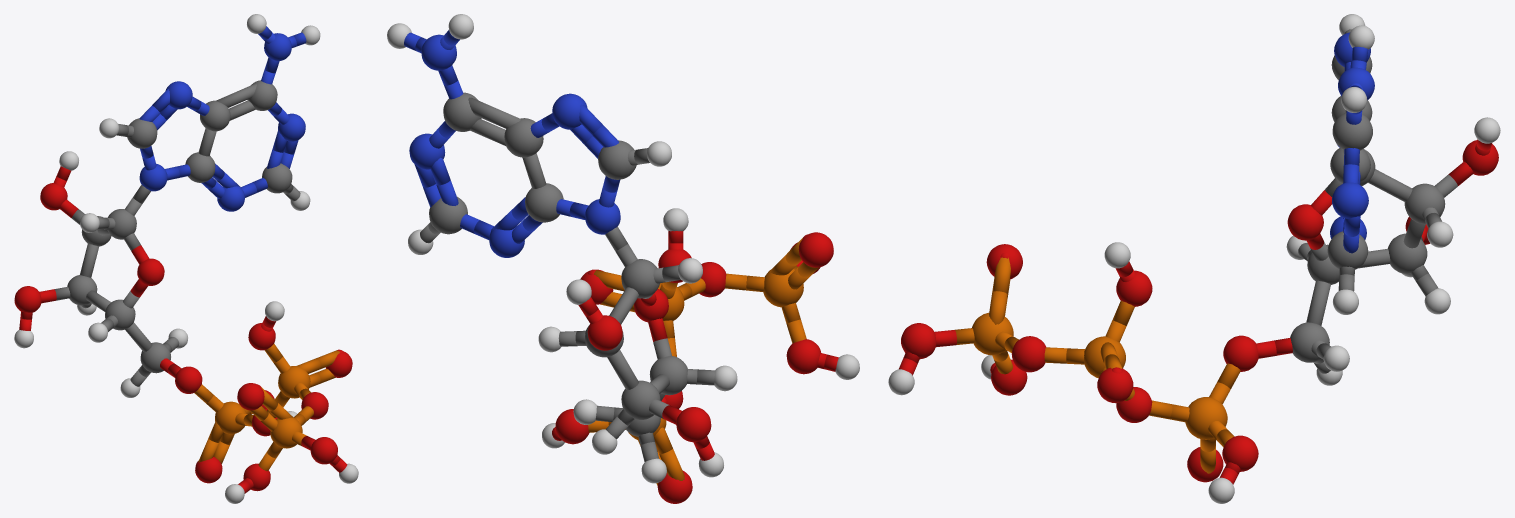
File: atp.obj
3 renders of one model, left to right at view 1: azimuth 30°, elevation 25°; view 2: azimuth 150°, elevation 25°; view 3: azimuth 270°, elevation 25°, orthographic. The views are drawn at different scales.
Parts seen in each view (by area): view 1: ShapeSphere.001, ShapeSphere.026_ShapeSphere.004, ShapeSphere_ShapeSphere.001, ShapeSphere.002_ShapeSphere.001, ShapeSphere.028_ShapeSphere.004, ShapeSphere.027_ShapeSphere.004, ShapeSphere.030_ShapeSphere.004, ShapeSphere.023_ShapeSphere.004, ShapeSphere.022_ShapeSphere.004, ShapeSphere.029_ShapeSphere.004, ShapeSphere.025_ShapeSphere.004, ShapeSphere.024_ShapeSphere.004 (+18 smaller); view 2: ShapeSphere.026_ShapeSphere.004, ShapeSphere.028_ShapeSphere.004, ShapeSphere.027_ShapeSphere.004, ShapeSphere.023_ShapeSphere.004, ShapeSphere.022_ShapeSphere.004, ShapeSphere.030_ShapeSphere.004, ShapeSphere.005_ShapeSphere.002, ShapeSphere.002_ShapeSphere.001, ShapeSphere.015_ShapeSphere.002, ShapeSphere.024_ShapeSphere.004, ShapeSphere.029_ShapeSphere.004, ShapeSphere.004_ShapeSphere.002 (+19 smaller); view 3: ShapeSphere_ShapeSphere.001, ShapeSphere.029_ShapeSphere.004, ShapeSphere.002_ShapeSphere.001, ShapeSphere.019_ShapeSphere.003, ShapeSphere.022_ShapeSphere.004, ShapeSphere.021_ShapeSphere.004, ShapeSphere.025_ShapeSphere.004, ShapeSphere.003_ShapeSphere.002, ShapeSphere.010_ShapeSphere.002, ShapeSphere.012_ShapeSphere.002, ShapeSphere.006_ShapeSphere.002, ShapeSphere.013_ShapeSphere.002 (+14 smaller).
Part boxes in pixels (left/top/right/bottom): ShapeSphere.001: left=278, top=366, right=310, bottom=398; ShapeSphere.026_ShapeSphere.004: left=185, top=152, right=215, bottom=182; ShapeSphere_ShapeSphere.001: left=215, top=401, right=246, bottom=434; ShapeSphere.002_ShapeSphere.001: left=270, top=417, right=302, bottom=448; ShapeSphere.028_ShapeSphere.004: left=200, top=100, right=230, bottom=131; ShapeSphere.027_ShapeSphere.004: left=127, top=118, right=157, bottom=148; ShapeSphere.030_ShapeSphere.004: left=262, top=163, right=292, bottom=193; ShapeSphere.023_ShapeSphere.004: left=107, top=209, right=136, bottom=239; ShapeSphere.022_ShapeSphere.004: left=67, top=275, right=97, bottom=305; ShapeSphere.029_ShapeSphere.004: left=247, top=80, right=277, bottom=110; ShapeSphere.025_ShapeSphere.004: left=140, top=342, right=170, bottom=373; ShapeSphere.024_ShapeSphere.004: left=105, top=299, right=135, bottom=330; ShapeSphere.026_ShapeSphere.004: left=525, top=183, right=563, bottom=222; ShapeSphere.028_ShapeSphere.004: left=504, top=118, right=543, bottom=157; ShapeSphere.027_ShapeSphere.004: left=598, top=140, right=636, bottom=179; ShapeSphere.023_ShapeSphere.004: left=621, top=259, right=659, bottom=298; ShapeSphere.022_ShapeSphere.004: left=621, top=380, right=660, bottom=419; ShapeSphere.030_ShapeSphere.004: left=429, top=196, right=467, bottom=234; ShapeSphere.005_ShapeSphere.002: left=676, top=407, right=711, bottom=442; ShapeSphere.002_ShapeSphere.001: left=763, top=268, right=803, bottom=307; ShapeSphere.015_ShapeSphere.002: left=798, top=232, right=833, bottom=267; ShapeSphere.024_ShapeSphere.004: left=649, top=356, right=687, bottom=395; ShapeSphere.029_ShapeSphere.004: left=443, top=92, right=481, bottom=131; ShapeSphere.004_ShapeSphere.002: left=587, top=315, right=622, bottom=350; ShapeSphere_ShapeSphere.001: left=1185, top=397, right=1227, bottom=439; ShapeSphere.029_ShapeSphere.004: left=1332, top=112, right=1372, bottom=150; ShapeSphere.002_ShapeSphere.001: left=972, top=312, right=1013, bottom=355; ShapeSphere.019_ShapeSphere.003: left=1332, top=182, right=1368, bottom=218; ShapeSphere.022_ShapeSphere.004: left=1388, top=233, right=1427, bottom=273; ShapeSphere.021_ShapeSphere.004: left=1404, top=183, right=1445, bottom=224; ShapeSphere.025_ShapeSphere.004: left=1290, top=322, right=1329, bottom=362; ShapeSphere.003_ShapeSphere.002: left=1287, top=204, right=1323, bottom=240; ShapeSphere.010_ShapeSphere.002: left=1011, top=336, right=1046, bottom=372; ShapeSphere.012_ShapeSphere.002: left=1097, top=367, right=1133, bottom=403; ShapeSphere.006_ShapeSphere.002: left=1223, top=335, right=1258, bottom=371; ShapeSphere.013_ShapeSphere.002: left=901, top=323, right=936, bottom=359.
Size of the model in its own units: 8.24 by 11.1 by 11.78.
